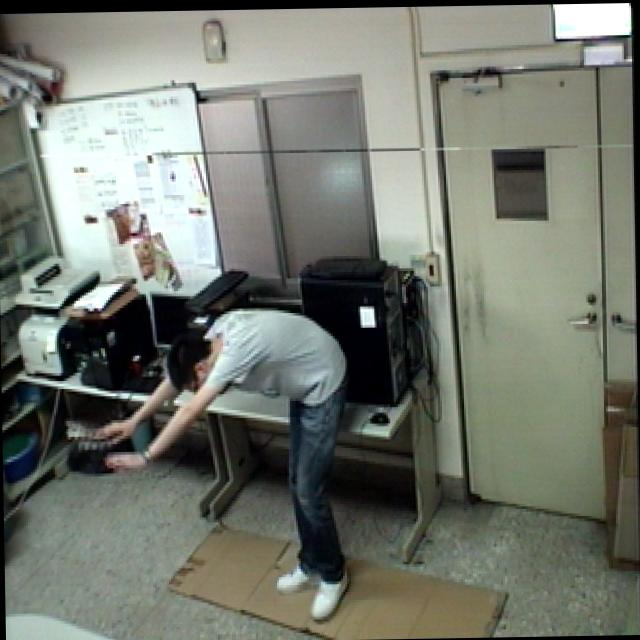bend: (90, 302, 372, 632)
